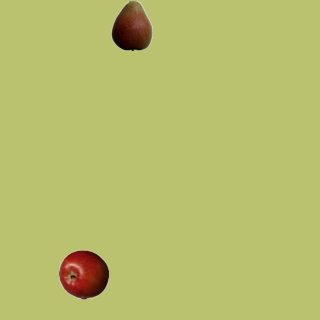Apple Braeburn: (58, 249, 108, 299)
Pear Forelle: (106, 0, 156, 50)
